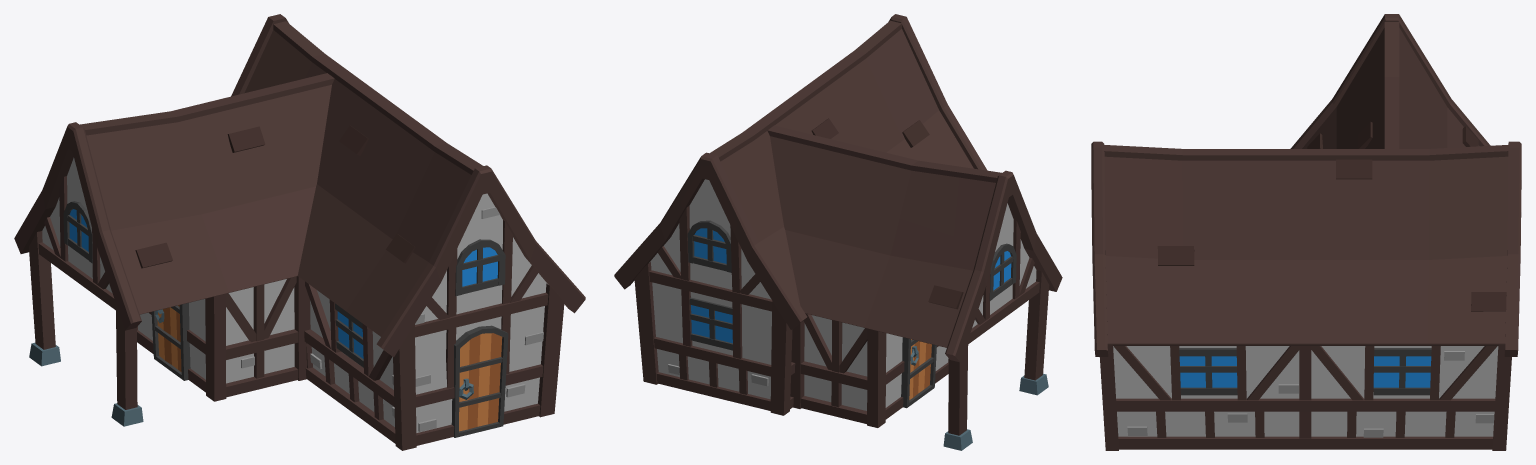
Rendered from House_3-2.fbx.
The picture shows the model from 3 angles, left to right: view 1: azimuth 30°, elevation 25°; view 2: azimuth 150°, elevation 25°; view 3: azimuth 270°, elevation 25°; orthographic projection. The views are drawn at different scales.
Visible parts, largest first — view 1: Town_BG_Bd_Store_A.001; view 2: Town_BG_Bd_Store_A.001; view 3: Town_BG_Bd_Store_A.001.
Boxes of the visible parts, left/top/right/bottom form: Town_BG_Bd_Store_A.001: left=14, top=14, right=585, bottom=450; Town_BG_Bd_Store_A.001: left=614, top=14, right=1062, bottom=450; Town_BG_Bd_Store_A.001: left=1091, top=14, right=1521, bottom=450.
Bounding box in the file's own units: 768 × 530 × 768.
